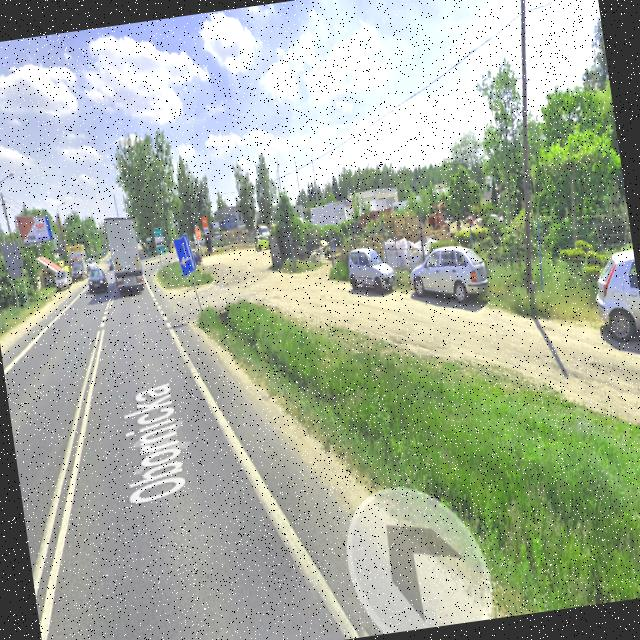Stop: (194, 224, 204, 244)
